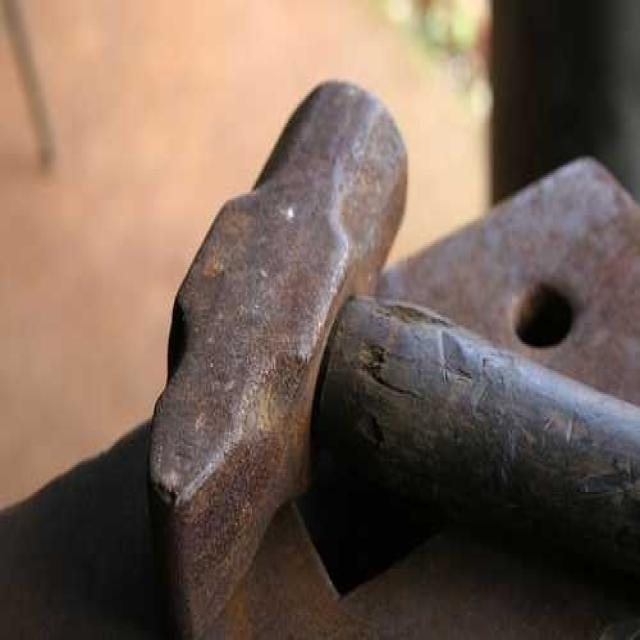hammer: (142, 78, 640, 640)
